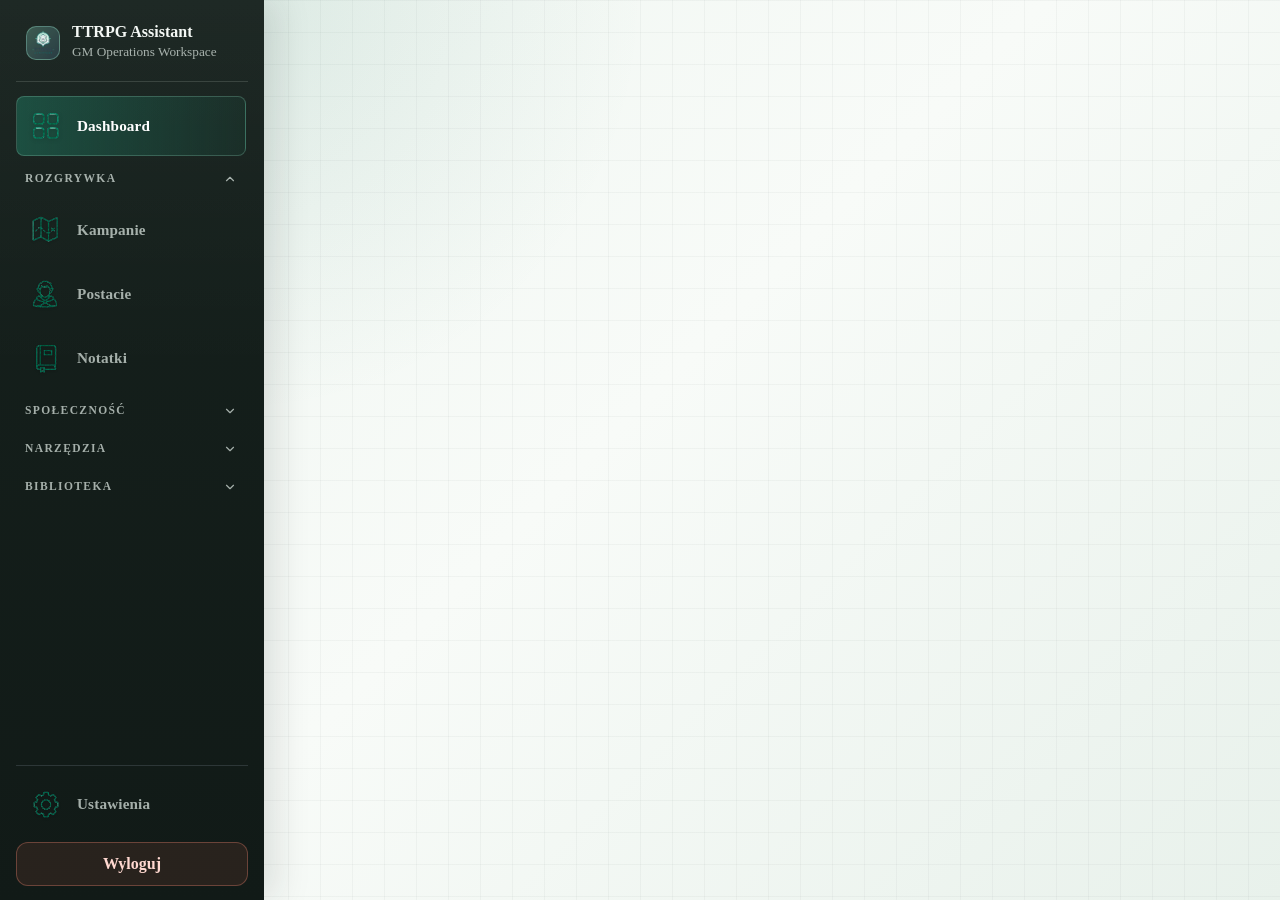
Test case: Sidebar navigation cleanup › allows gameplay section to collapse on dashboard
Click the button "Rozgrywka" at [131, 179], box x1=16 y1=164 x2=246 y2=194
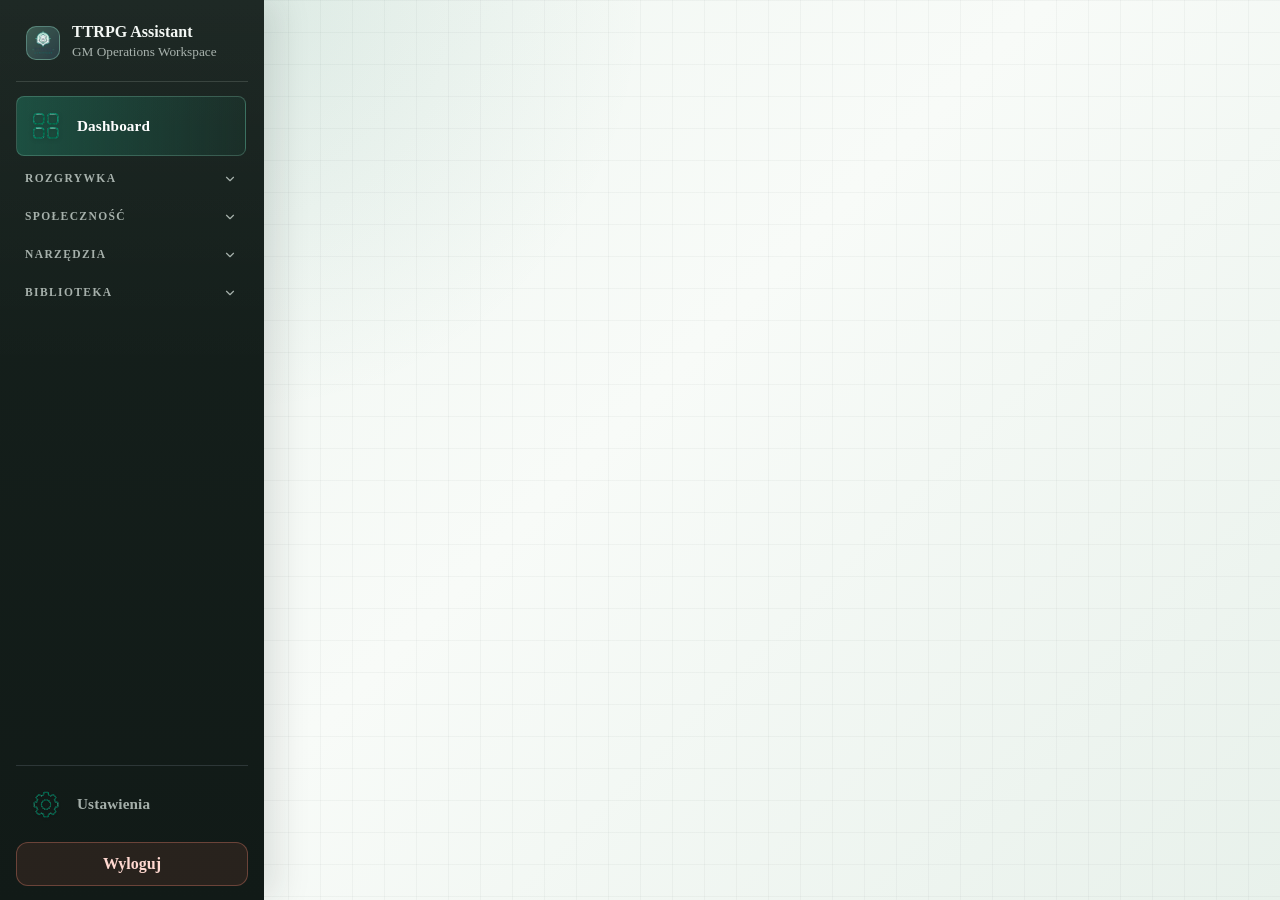
Now the button "Rozgrywka" is collapsed, box x1=16 y1=164 x2=246 y2=194
Now the link "Kampanie" is gone
